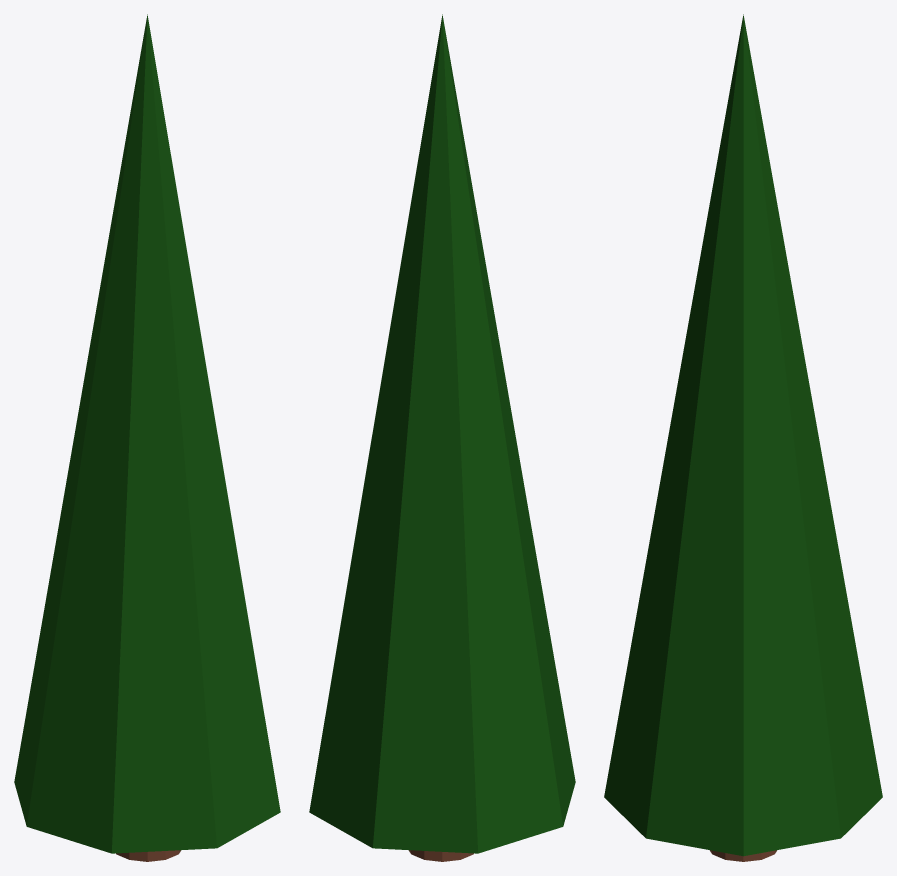
The model's file is Tree_24_autumn_vc.fbx.
The picture shows the model from 3 angles, left to right: view 1: azimuth 30°, elevation 25°; view 2: azimuth 150°, elevation 25°; view 3: azimuth 270°, elevation 25°; orthographic projection.
Parts seen in each view (by area): view 1: Tree_24_autumn_vc; view 2: Tree_24_autumn_vc; view 3: Tree_24_autumn_vc.
Boxes of the visible parts, bbox=[...] form: Tree_24_autumn_vc: bbox=[14, 14, 280, 861]; Tree_24_autumn_vc: bbox=[309, 14, 575, 861]; Tree_24_autumn_vc: bbox=[604, 14, 882, 861].
Bounding box in the file's own units: 85.35 × 281 × 85.35.
